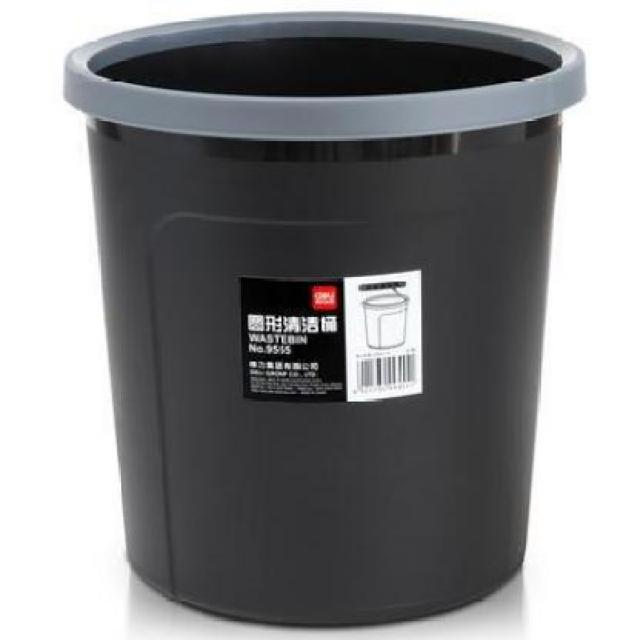dustbin: (58, 2, 587, 634)
